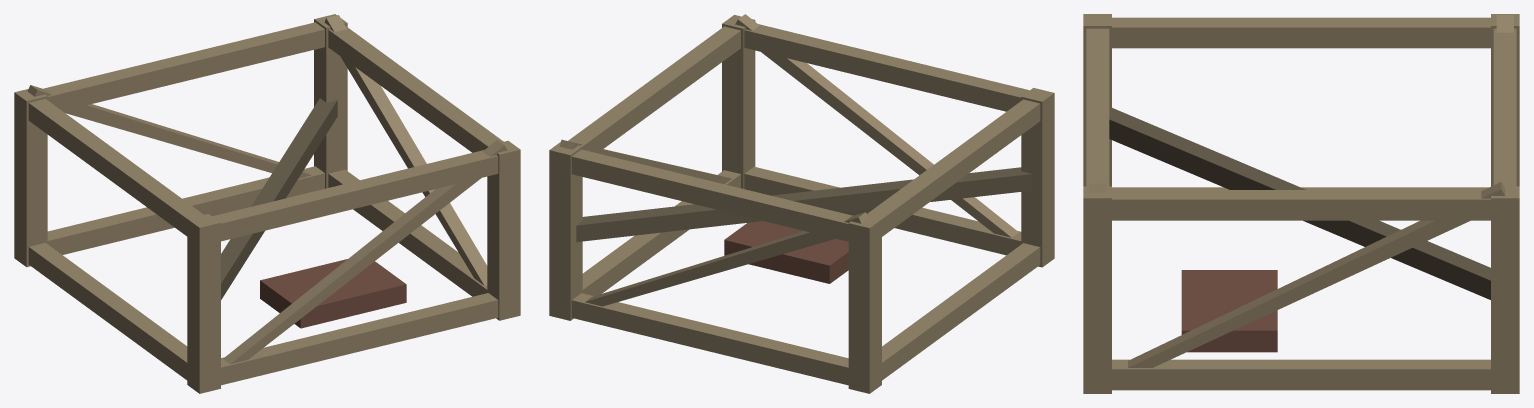
The model's file is ancient_crane_column_1.obj.
The picture shows the model from 3 angles, left to right: view 1: azimuth 30°, elevation 25°; view 2: azimuth 150°, elevation 25°; view 3: azimuth 270°, elevation 25°; orthographic projection. The views are drawn at different scales.
Visible parts, largest first — view 1: ancient_crane_column_1; view 2: ancient_crane_column_1; view 3: ancient_crane_column_1.
Part boxes in pixels (<box>): ancient_crane_column_1: <box>14,14,520,393</box>; ancient_crane_column_1: <box>549,14,1054,393</box>; ancient_crane_column_1: <box>1083,14,1519,393</box>.
Bounding box in the file's own units: 1.82 × 0.9318 × 1.82.
